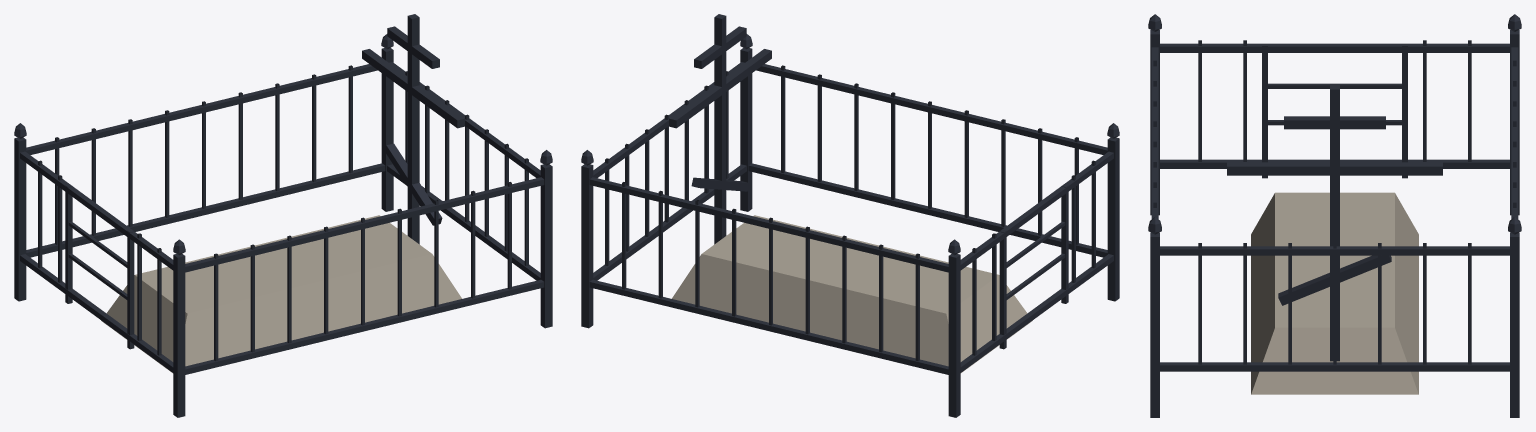
Rendered from SM_Cem_PlotCross.glb.
3 renders of one model, left to right at view 1: azimuth 30°, elevation 25°; view 2: azimuth 150°, elevation 25°; view 3: azimuth 270°, elevation 25°, orthographic. The views are drawn at different scales.
Parts seen in each view (by area): view 1: SM_Cem_PlotCross; view 2: SM_Cem_PlotCross; view 3: SM_Cem_PlotCross.
Part boxes in pixels (bbox=[...]): SM_Cem_PlotCross: bbox=[14, 14, 552, 417]; SM_Cem_PlotCross: bbox=[581, 14, 1119, 417]; SM_Cem_PlotCross: bbox=[1148, 14, 1521, 417].
Size of the model in its own units: 2.48 by 1.65 by 1.87.
